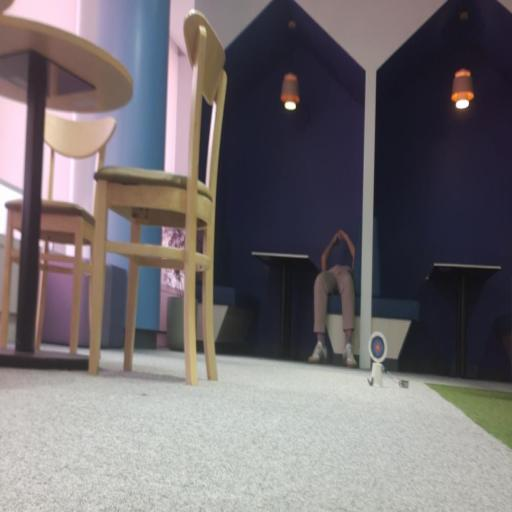target: (369, 331, 386, 363)
